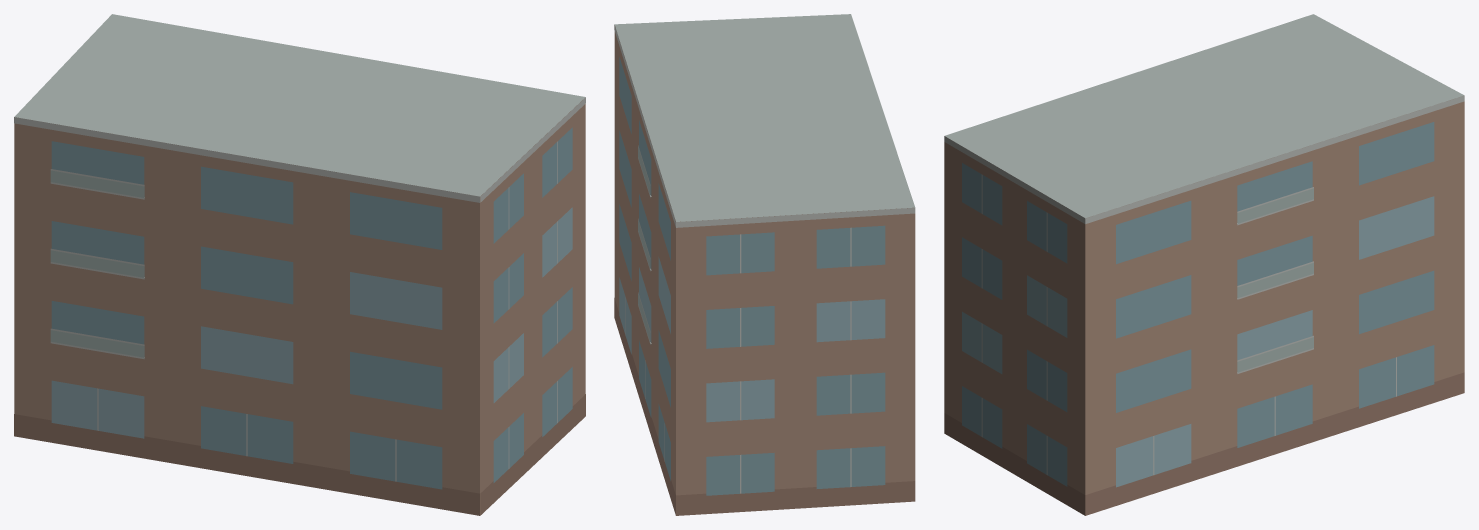
Rendered from survey-upis-32733978.glb.
3 views of the same model, side by side, from view 1: azimuth 30°, elevation 25°; view 2: azimuth 150°, elevation 25°; view 3: azimuth 270°, elevation 25° (orthographic). The views are drawn at different scales.
Parts seen in each view (by area): view 1: survey-upis-32733978.tmp; view 2: survey-upis-32733978.tmp; view 3: survey-upis-32733978.tmp.
Boxes of the visible parts, left/top/right/bottom form: survey-upis-32733978.tmp: left=14, top=14, right=585, bottom=515; survey-upis-32733978.tmp: left=614, top=14, right=915, bottom=515; survey-upis-32733978.tmp: left=944, top=14, right=1464, bottom=515.
Bounding box in the file's own units: 17.97 × 12.2 × 19.34.
